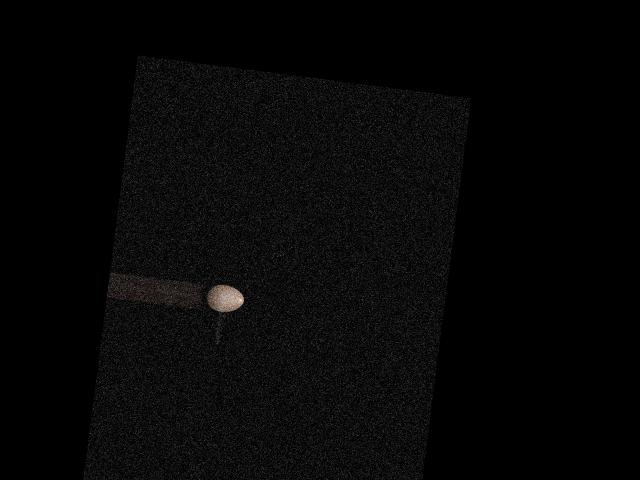egg: (205, 282, 245, 313)
